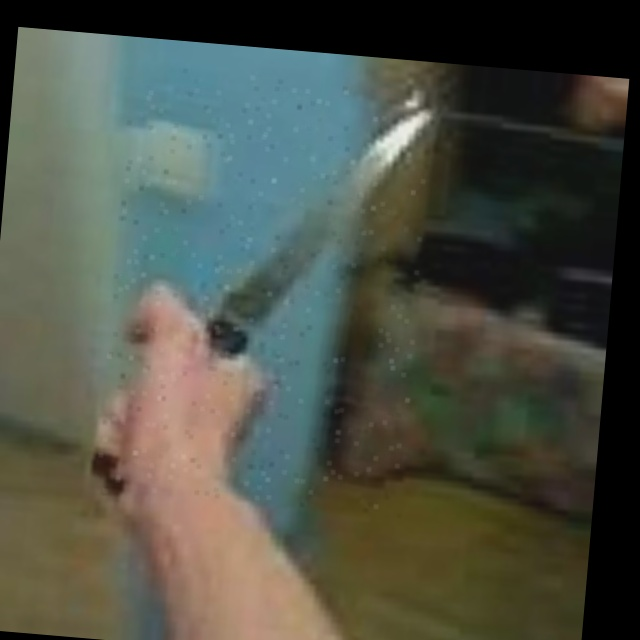Sharp-Object: (97, 66, 436, 517)
